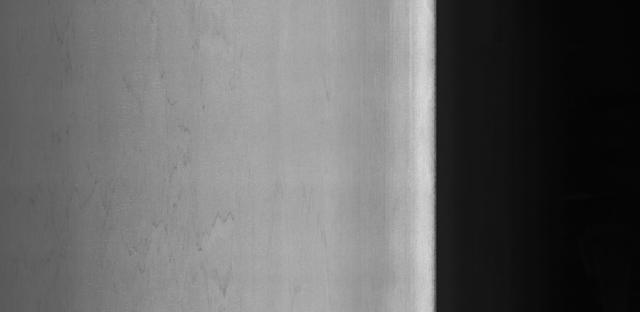silk_spot: (81, 28, 256, 294)
